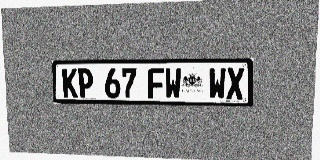6: (105, 68, 121, 98)
7: (121, 68, 137, 98)
F: (148, 68, 164, 99)
K: (62, 68, 78, 98)
P: (77, 68, 93, 98)
W: (209, 68, 226, 99), (165, 68, 181, 99)
X: (226, 67, 244, 99)
